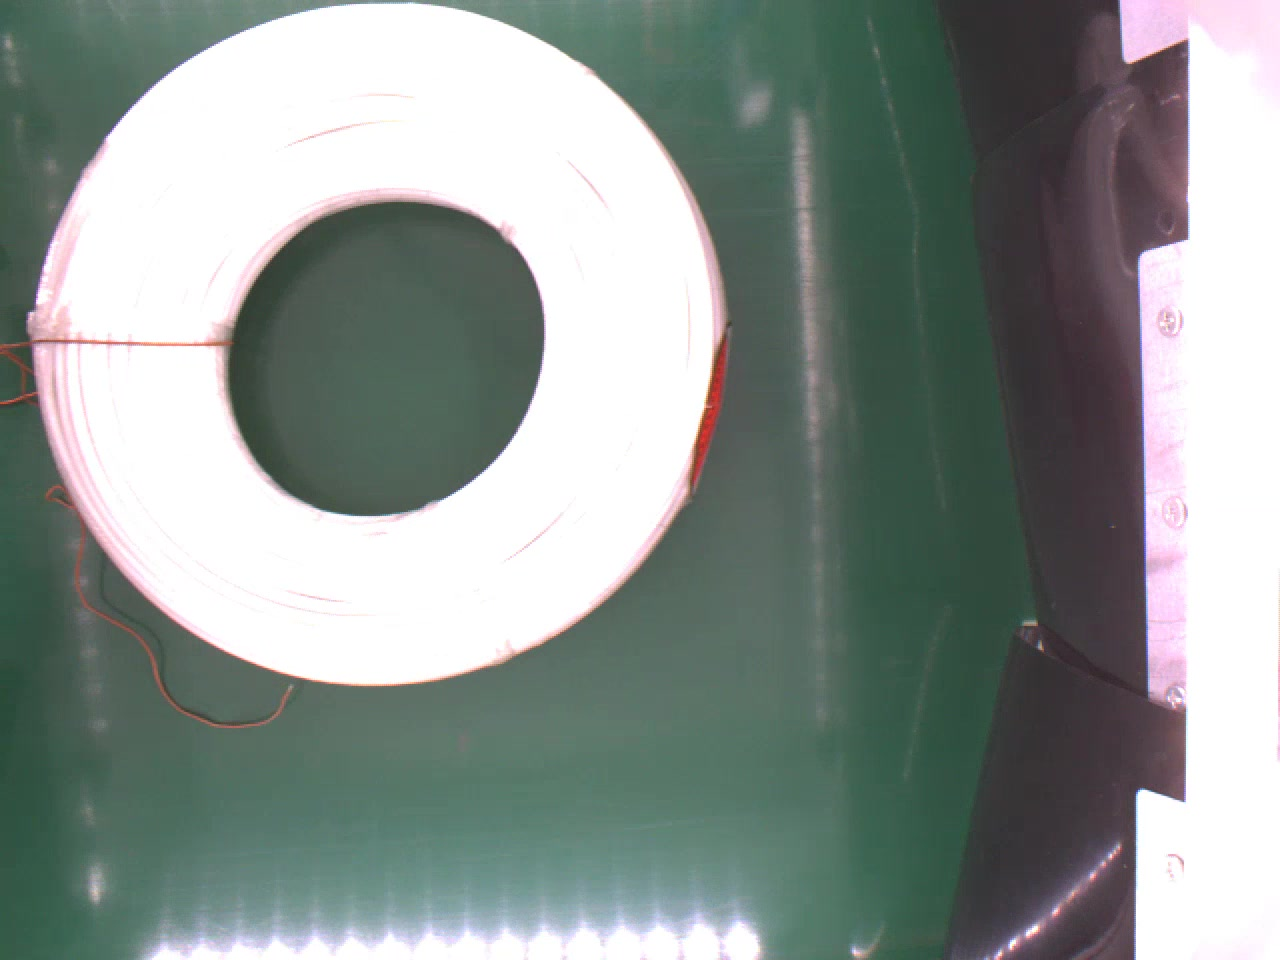white: (27, 3, 727, 684)
